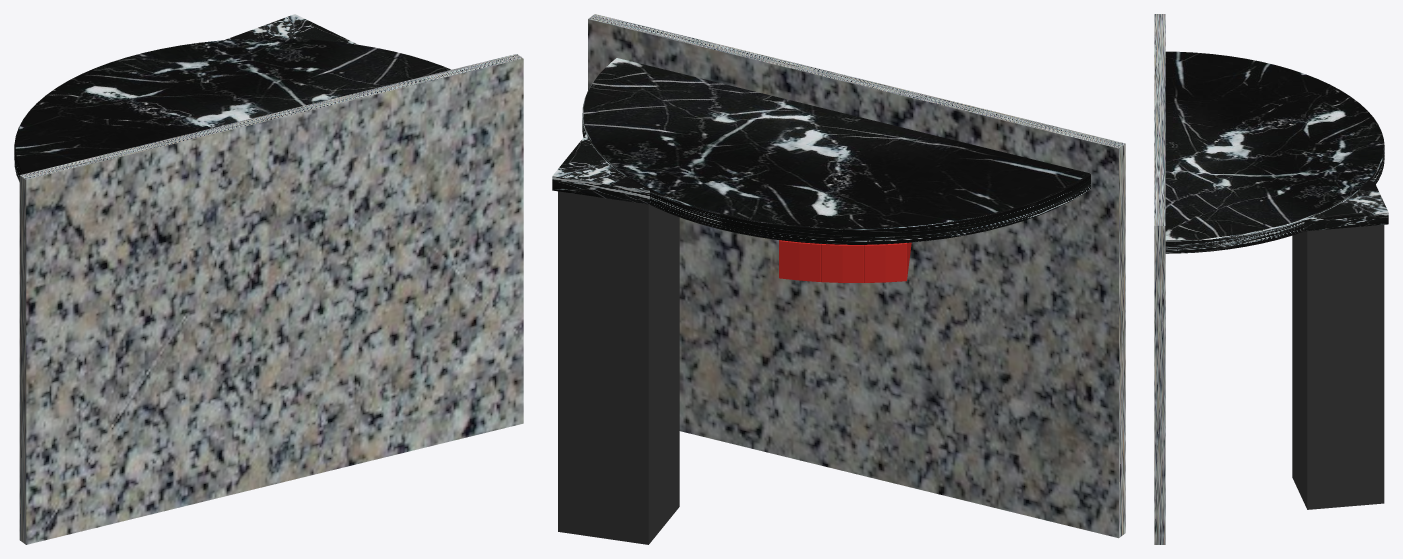
File: Belvedere_Table_Liam.glb
3 renders of one model, left to right at view 1: azimuth 30°, elevation 25°; view 2: azimuth 150°, elevation 25°; view 3: azimuth 270°, elevation 25°, orthographic. The views are drawn at different scales.
Parts seen in each view (by area): view 1: Cube, Cylinder.001, Cube.002; view 2: Cube, Cylinder.001, Cube.001, Cube.002, Cylinder.004, Cylinder.003, Cylinder.002; view 3: Cylinder.001, Cube.001, Cube, Cube.002.
Boxes of the visible parts, box(x1,y1,x2,y2) form: Cube: box(19, 54, 523, 544); Cylinder.001: box(14, 38, 450, 181); Cube.002: box(224, 14, 357, 44); Cube: box(588, 14, 1125, 538); Cylinder.001: box(582, 58, 1090, 244); Cube.001: box(558, 191, 679, 544); Cube.002: box(552, 134, 649, 204); Cylinder.004: box(864, 243, 907, 282); Cylinder.003: box(821, 244, 863, 282); Cylinder.002: box(779, 240, 820, 281); Cylinder.001: box(1165, 51, 1384, 253); Cube.001: box(1292, 225, 1384, 509); Cube: box(1154, 14, 1165, 544); Cube.002: box(1304, 178, 1388, 231).
Bounding box in the file's own units: 4.42 × 3.1 × 2.07.
4 materials, 2 textured.
